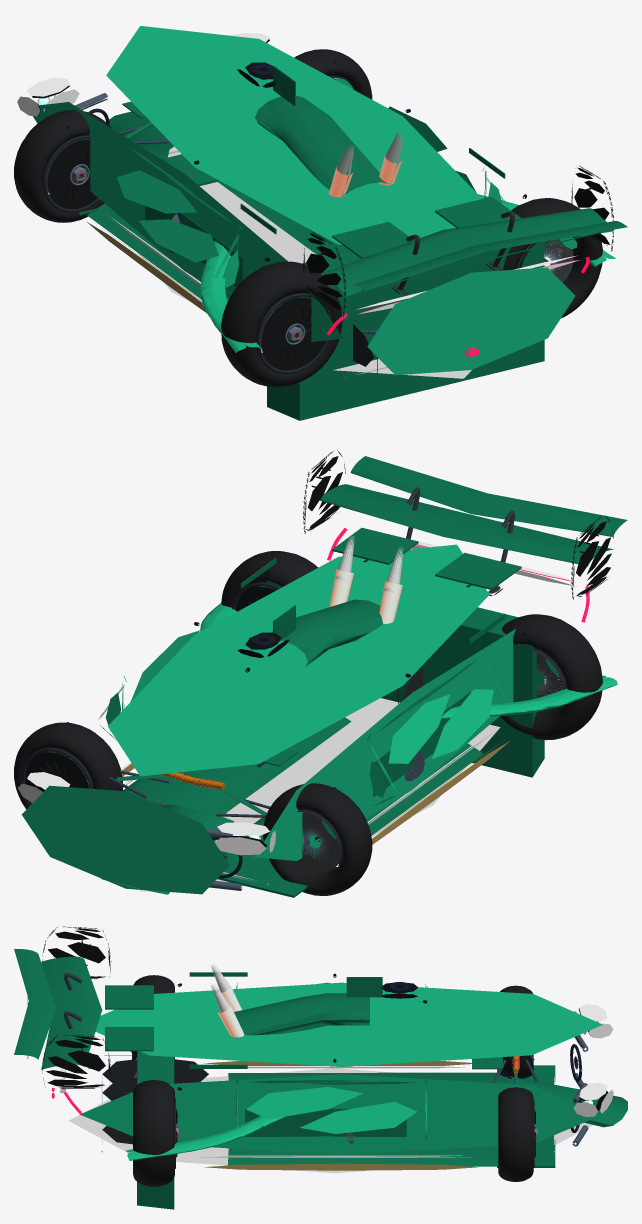
Rendered from vehicle_valkyrie_flying_buttress_lmh.glb.
3 renders of one model, top to bottom at view 1: azimuth 30°, elevation 25°; view 2: azimuth 150°, elevation 25°; view 3: azimuth 270°, elevation 25°, orthographic. The views are drawn at different scales.
Visible parts, largest first — view 1: MASTER_VEHICLE_VALKYRIE_FLYING_BUTTRESS_LMH, ACTIVE_GURNEY_FLAP_LIP, MICHELIN_CUP_2R_TRACK_TIRE.002, MICHELIN_CUP_2R_TRACK_TIRE, MULTI_ZONE_NEON_UNDERGLOW_SYSTEM, MICHELIN_CUP_2R_TRACK_TIRE.003, AERO_TURBOFAN_COVER.002, AERODYNAMIC_ENDPLATE_ASSEMBLY, AERO_TURBOFAN_COVER, FRONT_MATRIX_HEADLIGHT_CLUSTER, MICHELIN_CUP_2R_TRACK_TIRE.001, QUAD_EXHAUST_INCONEL_TITANIUM_ASSEMBLY (+6 smaller); view 2: MASTER_VEHICLE_VALKYRIE_FLYING_BUTTRESS_LMH, ACTIVE_GURNEY_FLAP_LIP, MICHELIN_CUP_2R_TRACK_TIRE.002, MICHELIN_CUP_2R_TRACK_TIRE, MULTI_ZONE_NEON_UNDERGLOW_SYSTEM, MICHELIN_CUP_2R_TRACK_TIRE.001, FRONT_MATRIX_HEADLIGHT_CLUSTER, AERODYNAMIC_ENDPLATE_ASSEMBLY, MICHELIN_CUP_2R_TRACK_TIRE.003, QUAD_EXHAUST_INCONEL_TITANIUM_ASSEMBLY, FLOATING_CSIC_BRAKE_ROTOR, AERO_TURBOFAN_COVER.001 (+5 smaller); view 3: MASTER_VEHICLE_VALKYRIE_FLYING_BUTTRESS_LMH, ACTIVE_GURNEY_FLAP_LIP, MICHELIN_CUP_2R_TRACK_TIRE.003, MULTI_ZONE_NEON_UNDERGLOW_SYSTEM, MICHELIN_CUP_2R_TRACK_TIRE.001, AERODYNAMIC_ENDPLATE_ASSEMBLY, SEALING_SKIRT_LEFT, DIFFUSER_STRAKE_1, FRONT_MATRIX_HEADLIGHT_CLUSTER, QUAD_EXHAUST_INCONEL_TITANIUM_ASSEMBLY, FRONT_TWIN_RADIATORS, MICHELIN_CUP_2R_TRACK_TIRE (+2 smaller).
Part boxes in pixels (x1,y1,x2,y2): MASTER_VEHICLE_VALKYRIE_FLYING_BUTTRESS_LMH: [33, 26, 616, 375]; ACTIVE_GURNEY_FLAP_LIP: [48, 66, 627, 420]; MICHELIN_CUP_2R_TRACK_TIRE.002: [221, 261, 342, 387]; MICHELIN_CUP_2R_TRACK_TIRE: [14, 110, 111, 222]; MULTI_ZONE_NEON_UNDERGLOW_SYSTEM: [109, 146, 471, 378]; MICHELIN_CUP_2R_TRACK_TIRE.003: [503, 198, 602, 318]; AERO_TURBOFAN_COVER.002: [261, 297, 325, 370]; AERODYNAMIC_ENDPLATE_ASSEMBLY: [303, 165, 613, 316]; AERO_TURBOFAN_COVER: [47, 140, 97, 208]; FRONT_MATRIX_HEADLIGHT_CLUSTER: [17, 33, 579, 318]; MICHELIN_CUP_2R_TRACK_TIRE.001: [294, 49, 372, 99]; QUAD_EXHAUST_INCONEL_TITANIUM_ASSEMBLY: [329, 132, 402, 197]; MASTER_VEHICLE_VALKYRIE_FLYING_BUTTRESS_LMH: [21, 544, 617, 894]; ACTIVE_GURNEY_FLAP_LIP: [87, 456, 627, 897]; MICHELIN_CUP_2R_TRACK_TIRE.002: [500, 614, 602, 740]; MICHELIN_CUP_2R_TRACK_TIRE: [263, 783, 372, 895]; MULTI_ZONE_NEON_UNDERGLOW_SYSTEM: [124, 698, 500, 891]; MICHELIN_CUP_2R_TRACK_TIRE.001: [14, 722, 123, 809]; FRONT_MATRIX_HEADLIGHT_CLUSTER: [18, 527, 591, 855]; AERODYNAMIC_ENDPLATE_ASSEMBLY: [303, 450, 613, 599]; MICHELIN_CUP_2R_TRACK_TIRE.003: [221, 551, 317, 607]; QUAD_EXHAUST_INCONEL_TITANIUM_ASSEMBLY: [329, 535, 403, 623]; FLOATING_CSIC_BRAKE_ROTOR: [295, 812, 339, 873]; AERO_TURBOFAN_COVER.001: [25, 752, 88, 788]; MASTER_VEHICLE_VALKYRIE_FLYING_BUTTRESS_LMH: [81, 982, 602, 1160]; ACTIVE_GURNEY_FLAP_LIP: [14, 949, 627, 1209]; MICHELIN_CUP_2R_TRACK_TIRE.003: [133, 1080, 174, 1186]; MULTI_ZONE_NEON_UNDERGLOW_SYSTEM: [68, 1066, 592, 1173]; MICHELIN_CUP_2R_TRACK_TIRE.001: [498, 1087, 533, 1181]; AERODYNAMIC_ENDPLATE_ASSEMBLY: [42, 926, 111, 1088]; SEALING_SKIRT_LEFT: [204, 1061, 478, 1170]; DIFFUSER_STRAKE_1: [102, 1055, 208, 1144]; FRONT_MATRIX_HEADLIGHT_CLUSTER: [59, 1004, 613, 1116]; QUAD_EXHAUST_INCONEL_TITANIUM_ASSEMBLY: [211, 963, 244, 1037]; FRONT_TWIN_RADIATORS: [344, 1035, 588, 1146]; MICHELIN_CUP_2R_TRACK_TIRE: [498, 985, 533, 1078].
Bounding box in the file's own units: 2.82 × 1.57 × 4.75.
